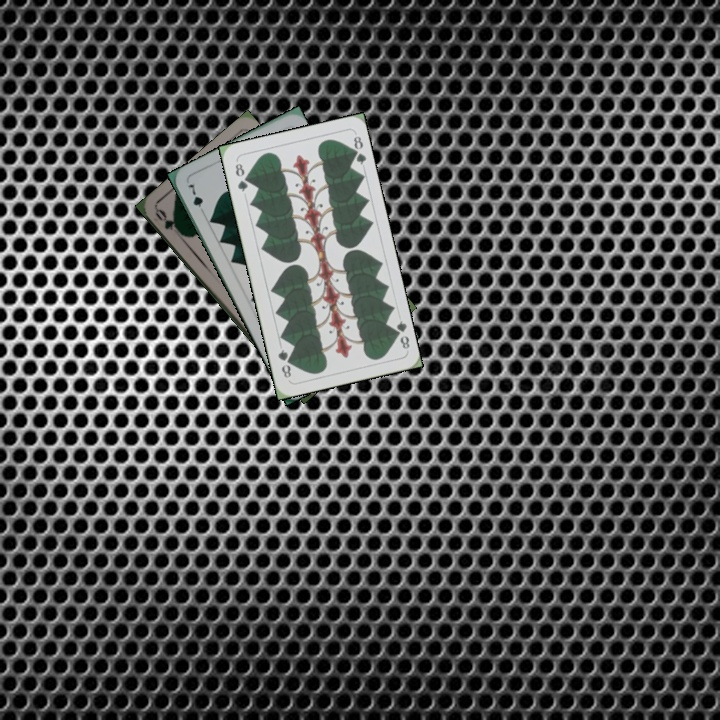G7: (184, 178, 208, 218)
G8: (388, 316, 412, 352), (231, 159, 250, 195)
GO: (151, 205, 186, 238)
